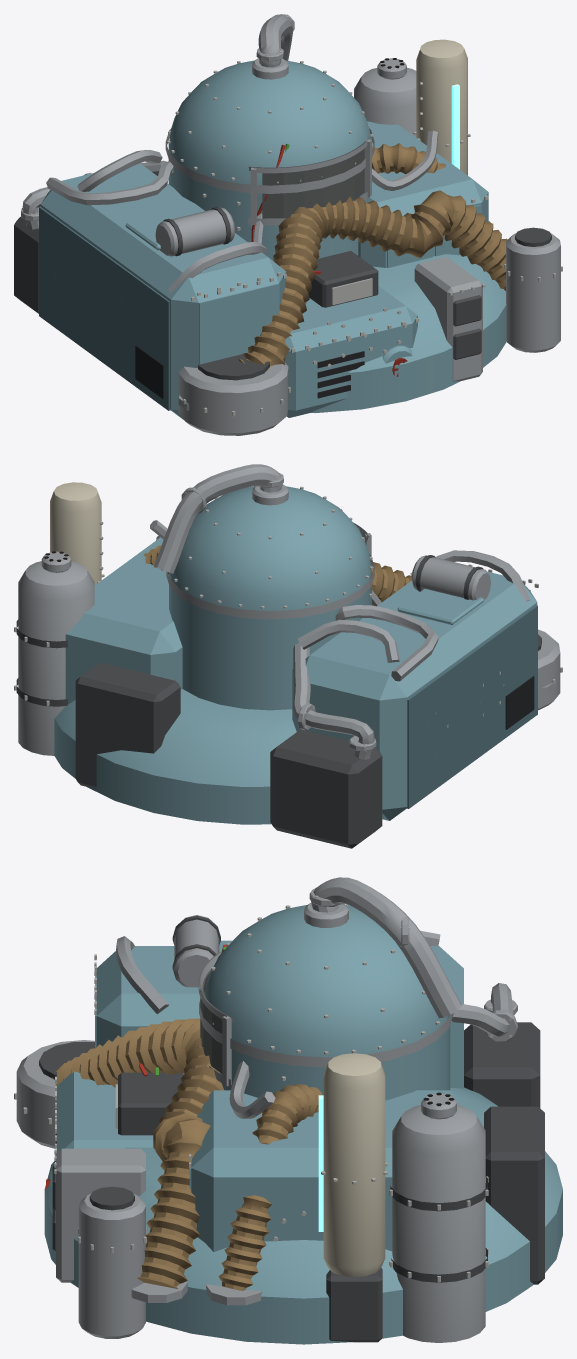
File: cryogenic-plant.glb
The picture shows the model from 3 angles, top to bottom: view 1: azimuth 30°, elevation 25°; view 2: azimuth 150°, elevation 25°; view 3: azimuth 270°, elevation 25°; orthographic projection. The views are drawn at different scales.
Parts seen in each view (by area): view 1: body, anim_slide_cryo_drawers, anim_slide_cryo_hatch, anim_glow_cryo_gauge; view 2: body, anim_slide_cryo_hatch; view 3: body, anim_glow_cryo_gauge.
Part boxes in pixels (x1,y1,x2,y2): body: [14, 14, 562, 435]; anim_slide_cryo_drawers: [453, 295, 481, 359]; anim_slide_cryo_hatch: [125, 210, 186, 250]; anim_glow_cryo_gauge: [451, 84, 459, 169]; body: [14, 464, 562, 848]; anim_slide_cryo_hatch: [397, 589, 483, 624]; body: [14, 877, 562, 1344]; anim_glow_cryo_gauge: [318, 1095, 323, 1231].
Size of the model in its own units: 4.93 by 3.41 by 4.87.
